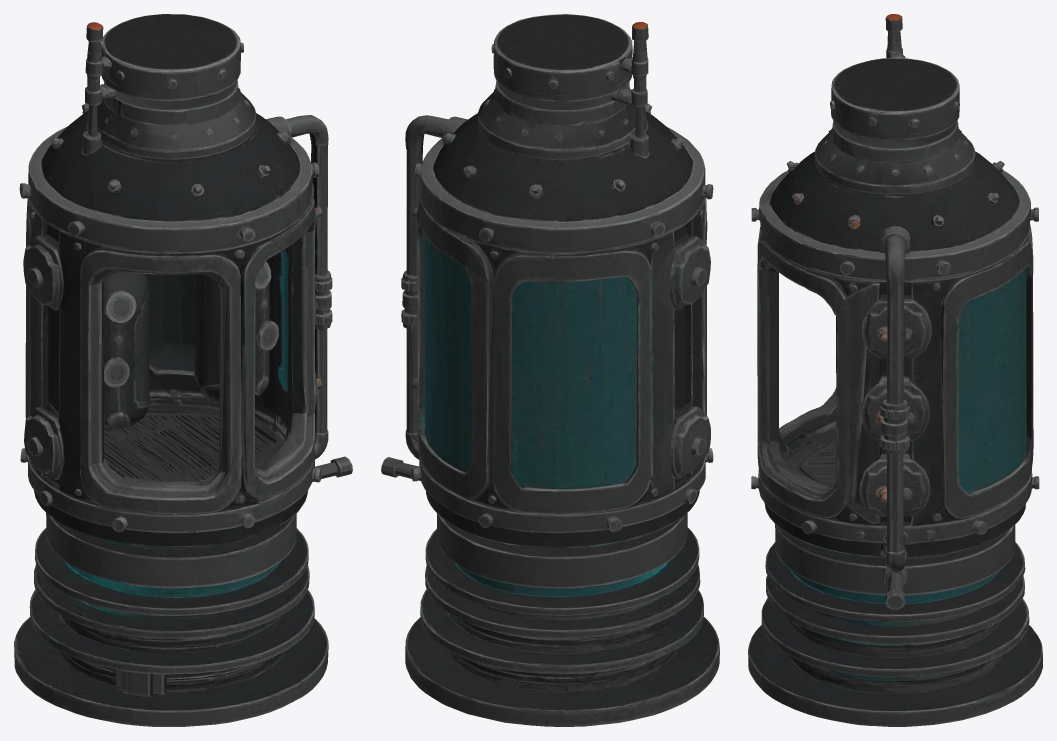
File: hero-chamber.gltf
The picture shows the model from 3 angles, left to right: view 1: azimuth 30°, elevation 25°; view 2: azimuth 150°, elevation 25°; view 3: azimuth 270°, elevation 25°; orthographic projection. The views are drawn at different scales.
Size of the model in its own units: 0.9569 by 1.9 by 0.827.
1 material, 1 textured.
